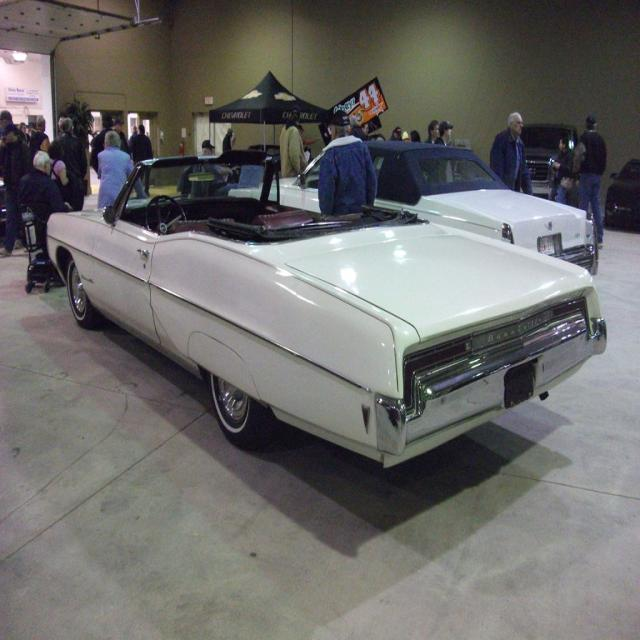car: (44, 148, 609, 469)
